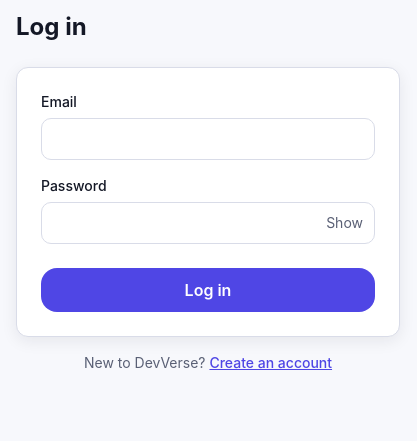
LoginPage › announces a server error in an alert
The image size is (417, 441).
Type "alice@example.com" into the field labelled "Email" at [208, 139], box x1=41 y1=118 x2=375 y2=160
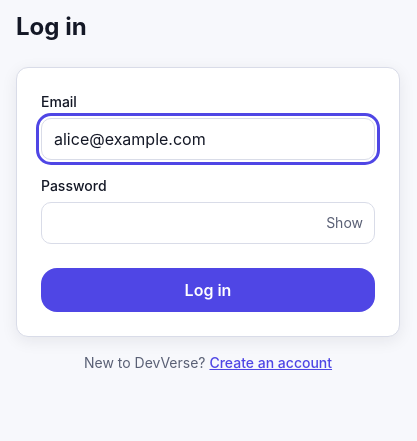
Type "wrong password" into the password field labelled "Password" at [208, 223], box x1=41 y1=202 x2=375 y2=244
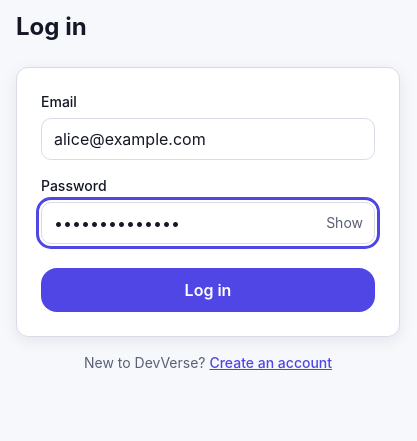
Click the button "Log in" at [208, 290], box x1=41 y1=268 x2=375 y2=312
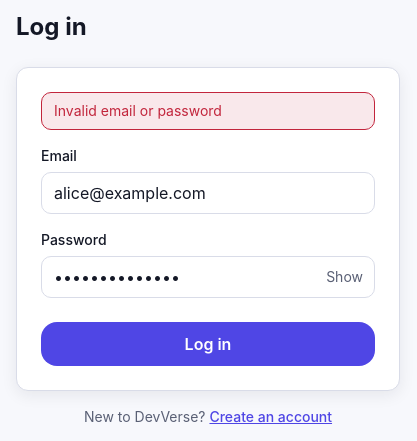
Result: the message reads "Invalid email or password" at x1=54 y1=102 x2=222 y2=119
